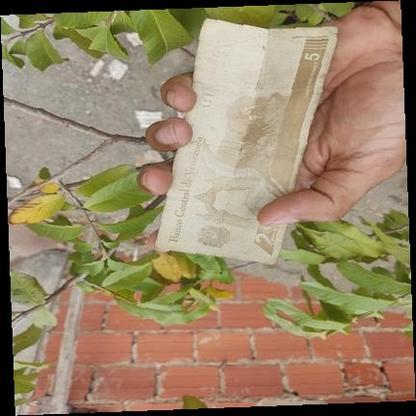five-back-vef: (154, 19, 338, 264)
